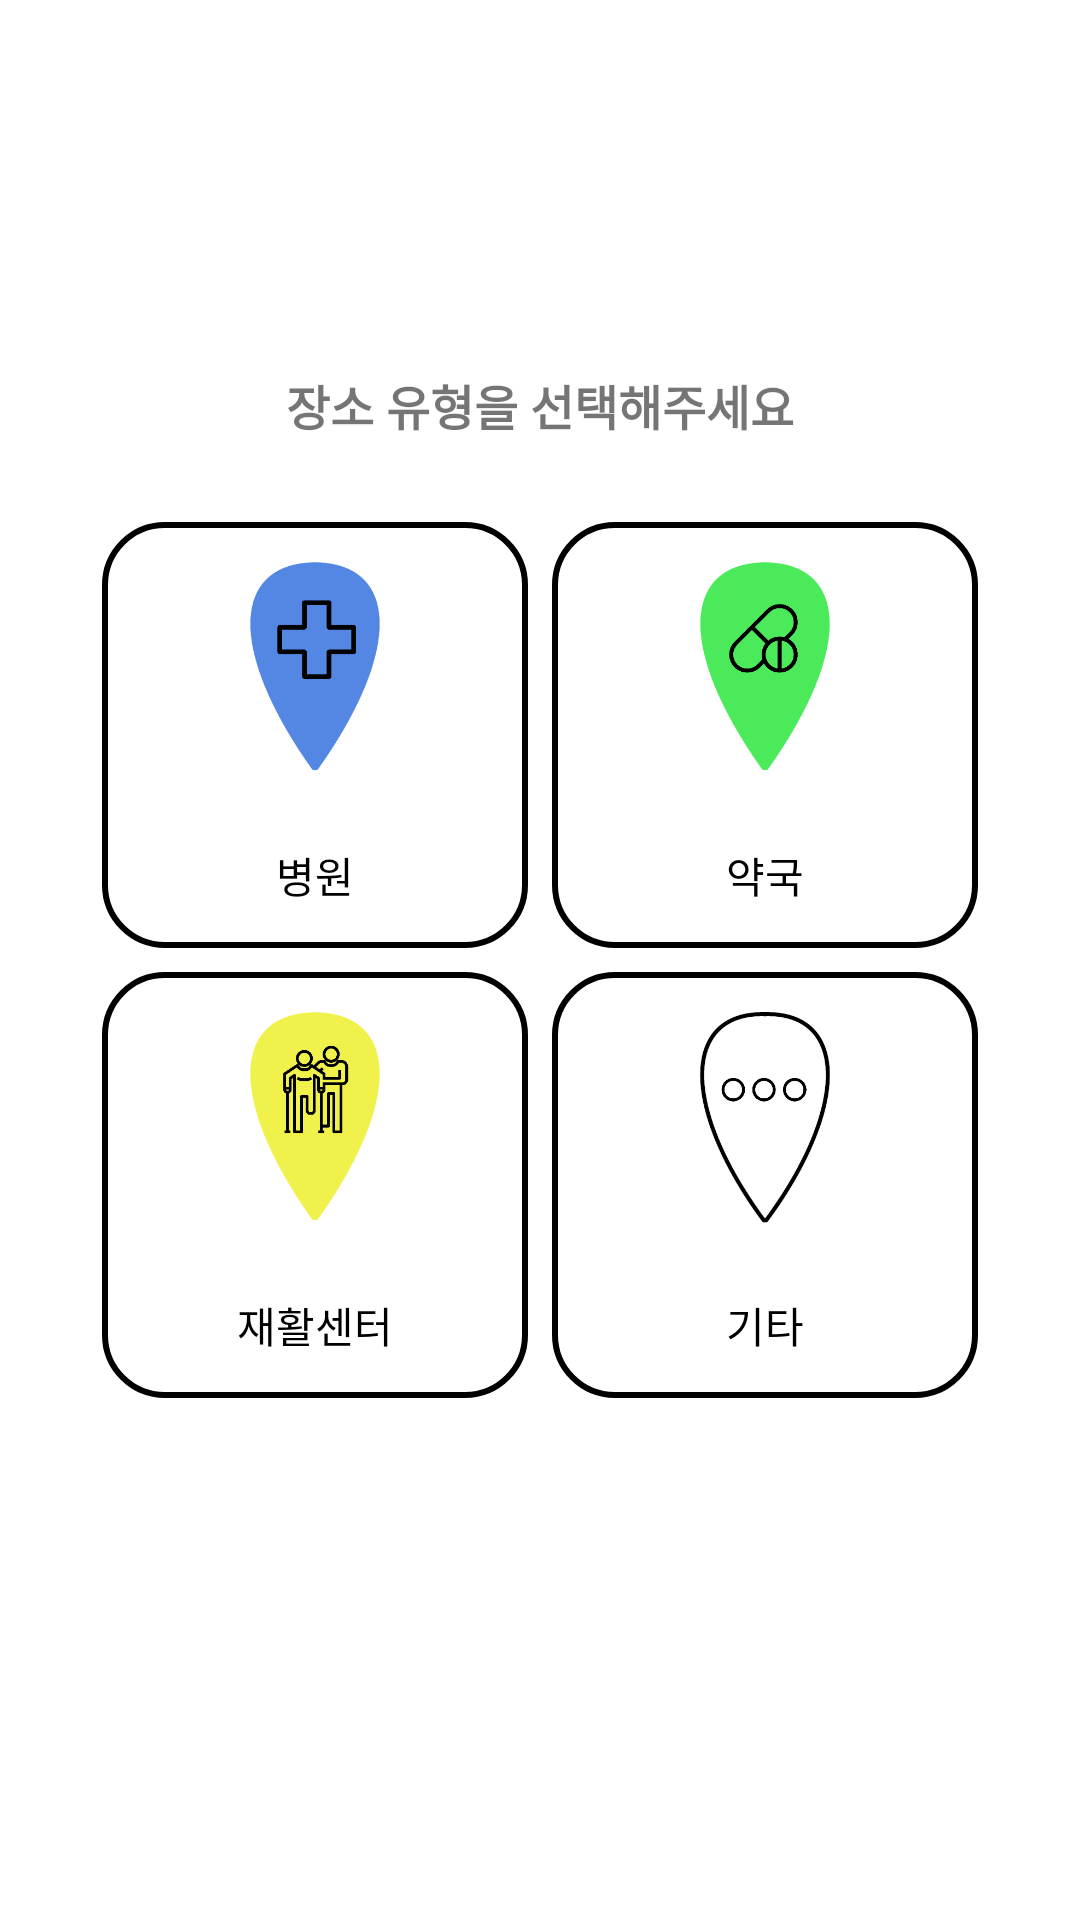

Icon click points for this 1080 × 1920 phone screenshot, format [x,y]:
drug: [765,666]
hospital: [315,666]
rehabilitation: [315,1116]
